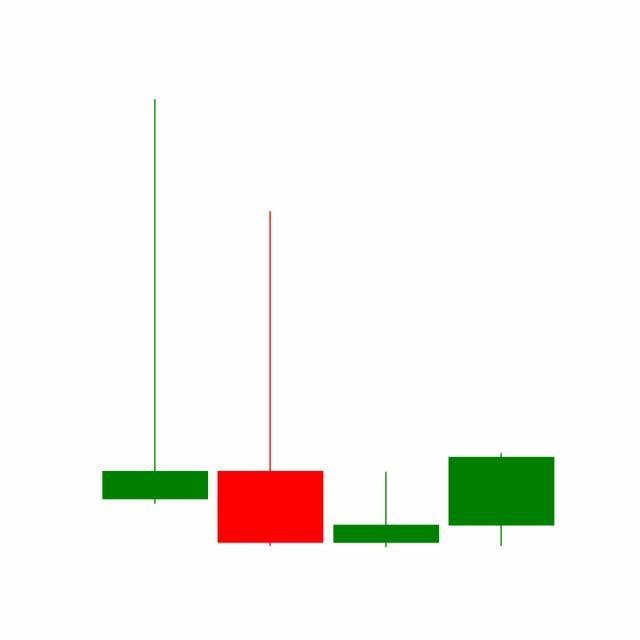Gravestone Doji: (329, 472, 445, 550)
